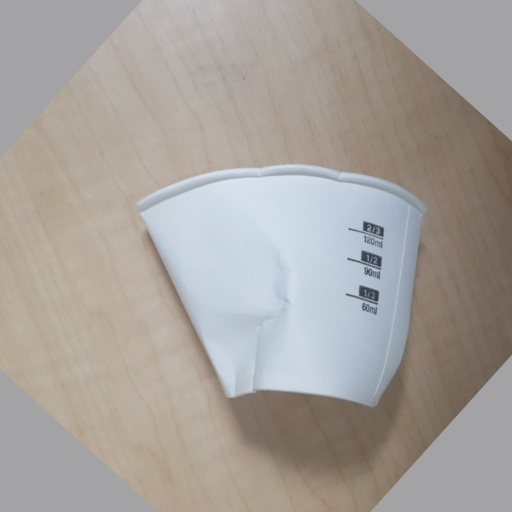Paper_1: (136, 160, 424, 413)
